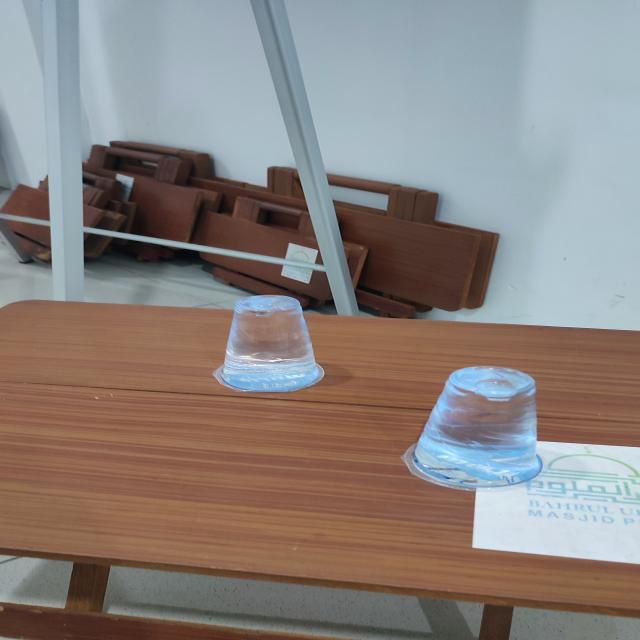air gelas: (392, 360, 559, 487), (204, 292, 338, 404)
